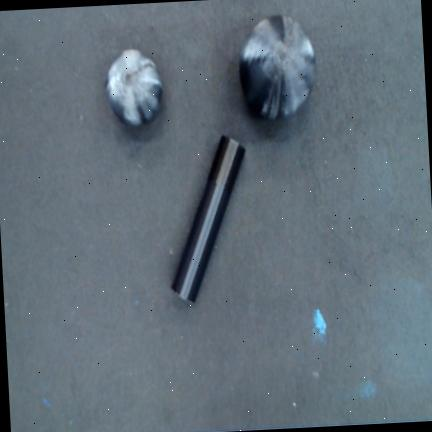Cilindro: (172, 135, 245, 302)
Esfera: (240, 16, 316, 119), (106, 49, 163, 125)
